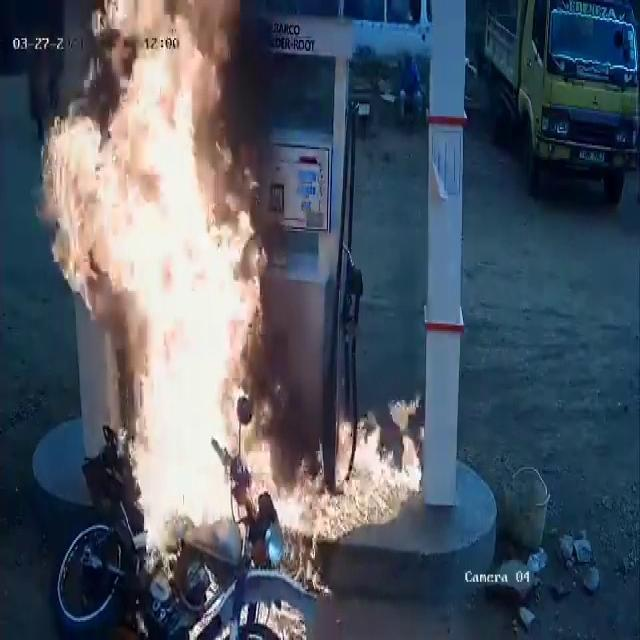Fire: (38, 0, 272, 542)
